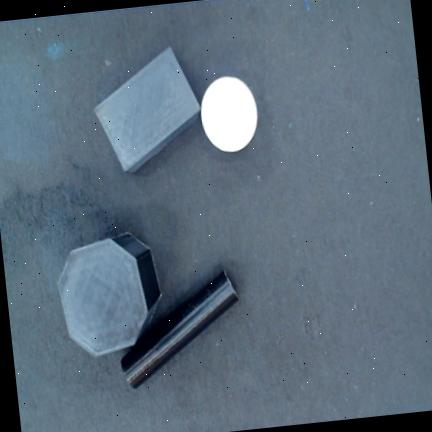Cilindro: (121, 269, 238, 389)
Esfera: (201, 76, 257, 153)
Paralelepipedo: (93, 43, 200, 173)
Prisma_hexagonal: (59, 233, 161, 356)
